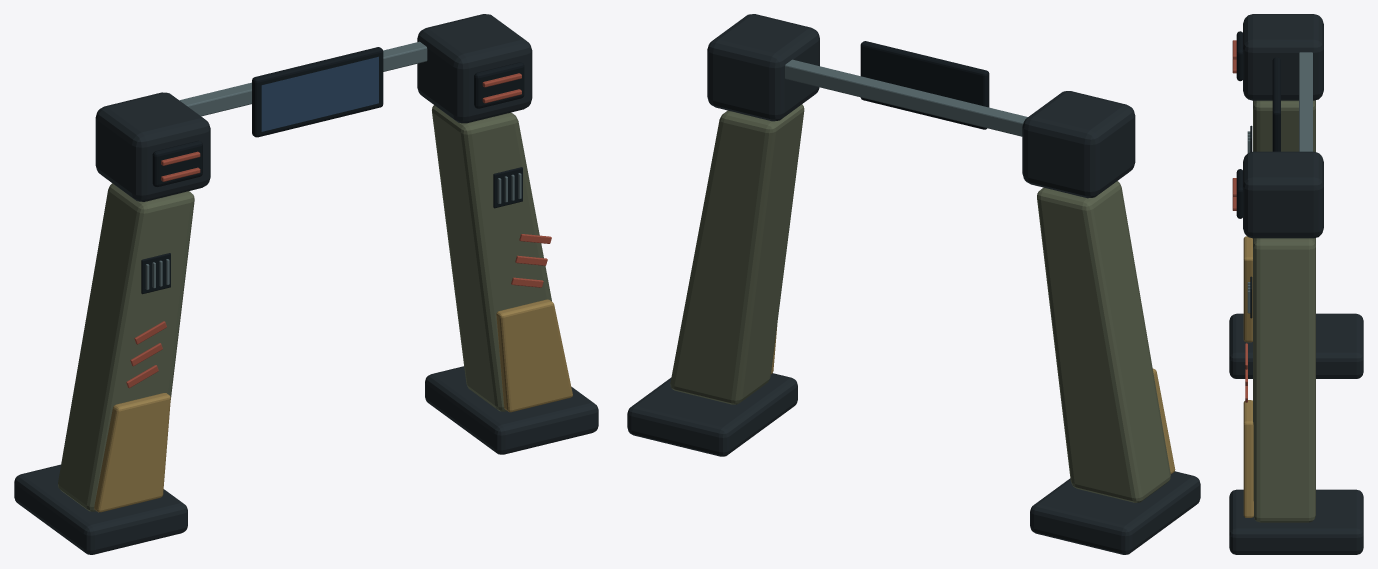
Rendered from JAMMER_GATE_FRAME.hi.glb.
The picture shows the model from 3 angles, left to right: view 1: azimuth 30°, elevation 25°; view 2: azimuth 150°, elevation 25°; view 3: azimuth 270°, elevation 25°; orthographic projection. The views are drawn at different scales.
Visible parts, largest first — view 1: Body_Mesh, SignSurface; view 2: Body_Mesh; view 3: Body_Mesh.
Boxes of the visible parts, box(x1,y1,x2,y2) form: Body_Mesh: box(14, 14, 598, 554); SignSurface: box(261, 56, 378, 131); Body_Mesh: box(627, 14, 1200, 554); Body_Mesh: box(1229, 14, 1363, 554).
Bounding box in the file's own units: 4.38 × 3.37 × 1.13.
